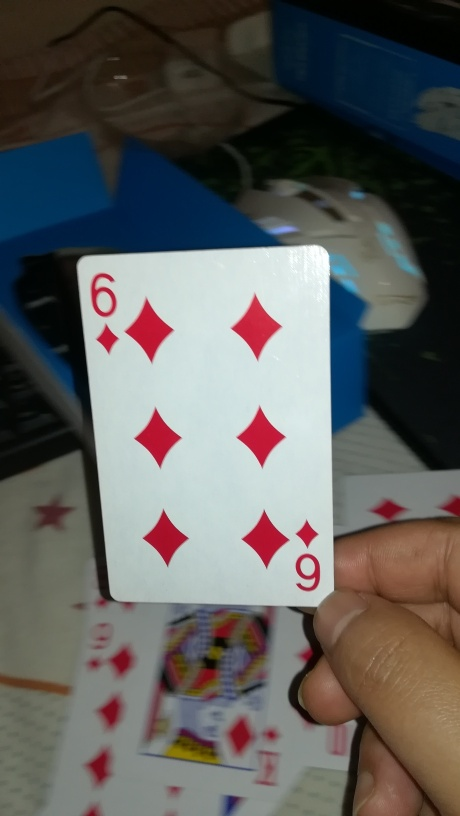fk 6: (71, 241, 339, 611)
